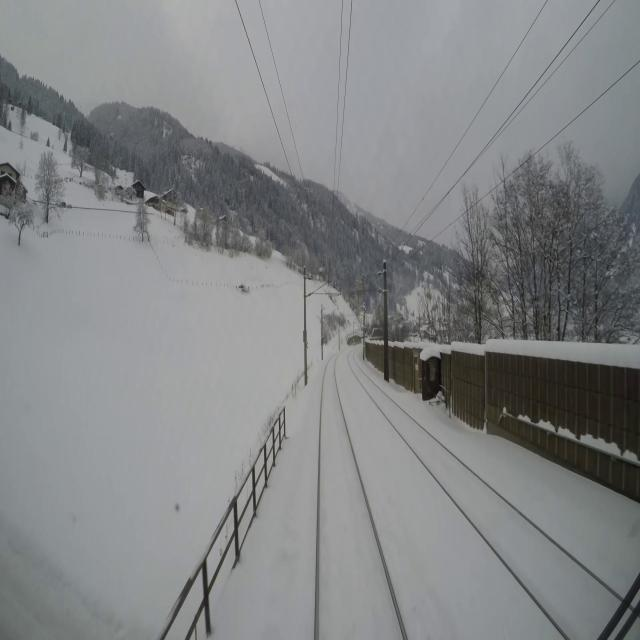rail-track: (349, 354, 620, 639), (320, 357, 402, 639)
